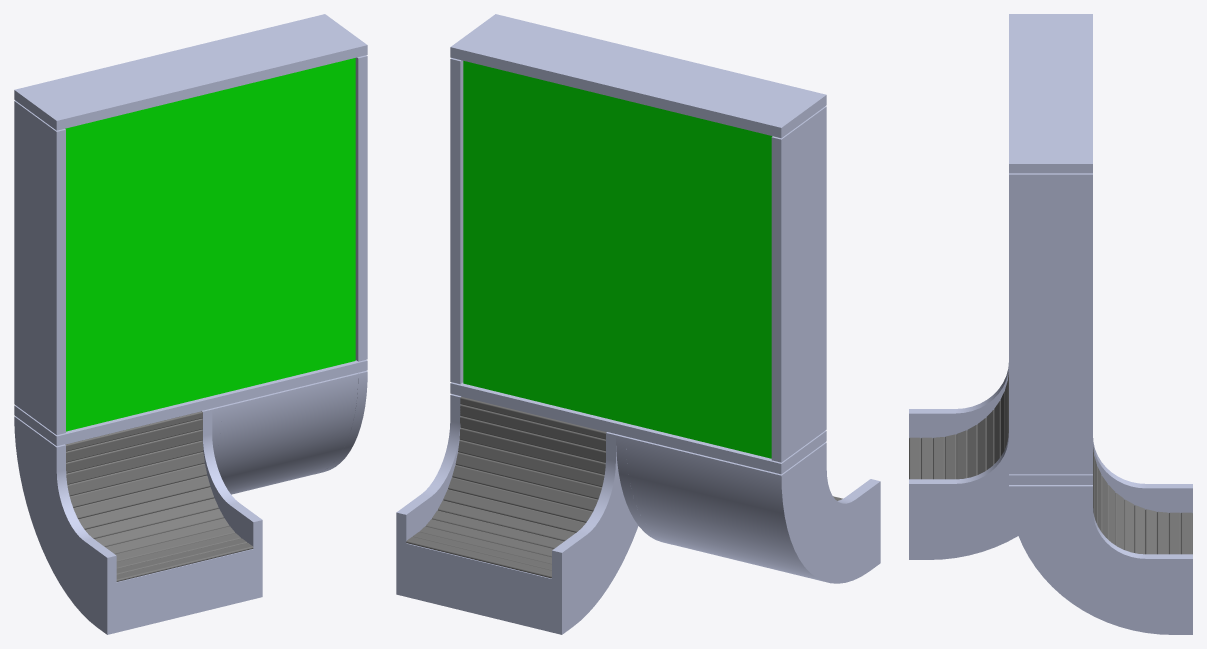
The model's file is murvegetal.obj.
The picture shows the model from 3 angles, left to right: view 1: azimuth 30°, elevation 25°; view 2: azimuth 150°, elevation 25°; view 3: azimuth 270°, elevation 25°; orthographic projection. The views are drawn at different scales.
Bounding box in the file's own units: 2.73 × 4 × 2.18.
